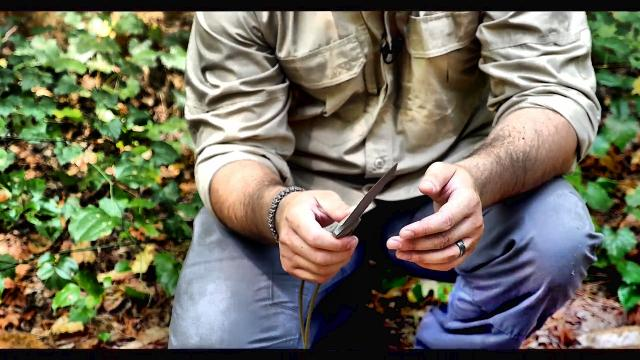knife: (280, 160, 400, 276)
